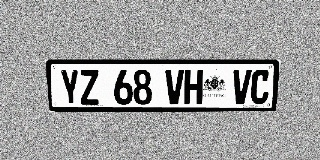6: (113, 70, 133, 105)
8: (133, 70, 152, 105)
C: (250, 70, 270, 104)
H: (184, 70, 203, 104)
V: (231, 70, 252, 104), (165, 70, 184, 104)
Y: (59, 70, 80, 105)
Z: (79, 70, 100, 105)
